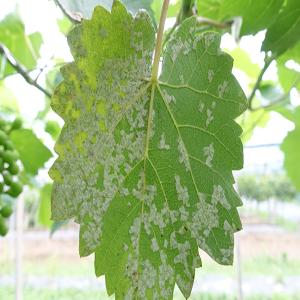Folha: (47, 0, 248, 298)
Fungo: (55, 2, 158, 255), (158, 183, 238, 285), (120, 258, 158, 299), (176, 135, 190, 172), (169, 35, 183, 62), (202, 142, 214, 168), (194, 31, 206, 57), (157, 131, 170, 150), (204, 107, 214, 130), (207, 70, 214, 82)
